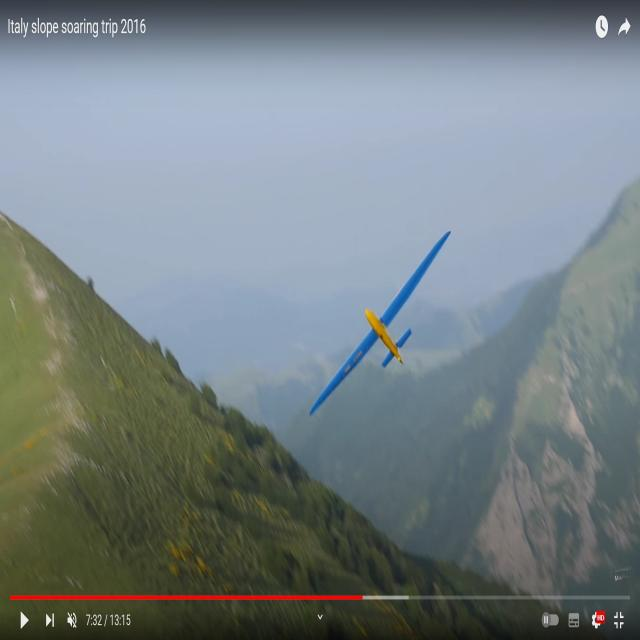iha: (310, 232, 456, 414)
